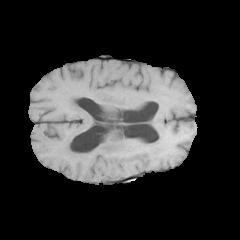glioma: (57, 138, 164, 164)
